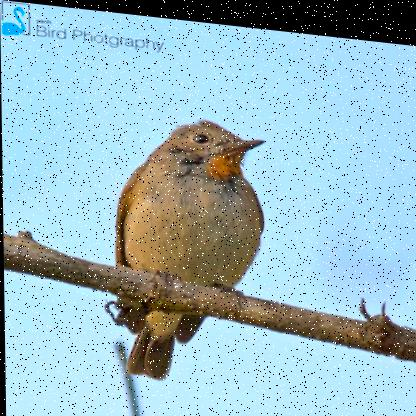Burung: (106, 87, 283, 388)
